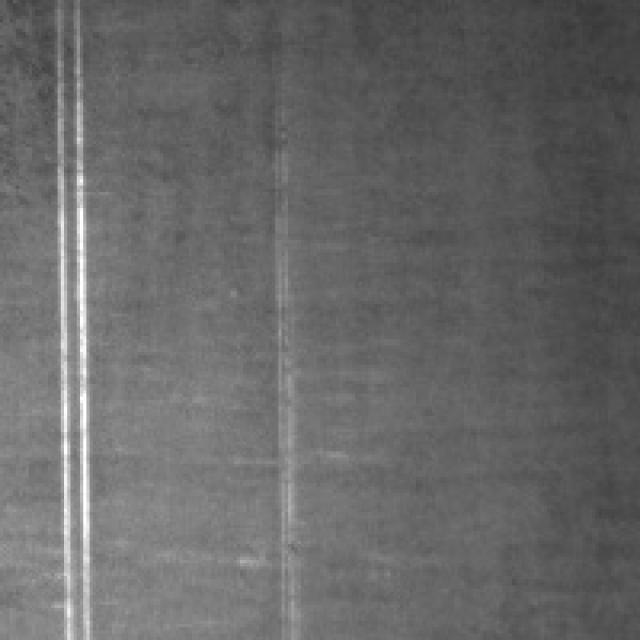scratches: (55, 0, 103, 630), (276, 125, 310, 630)
